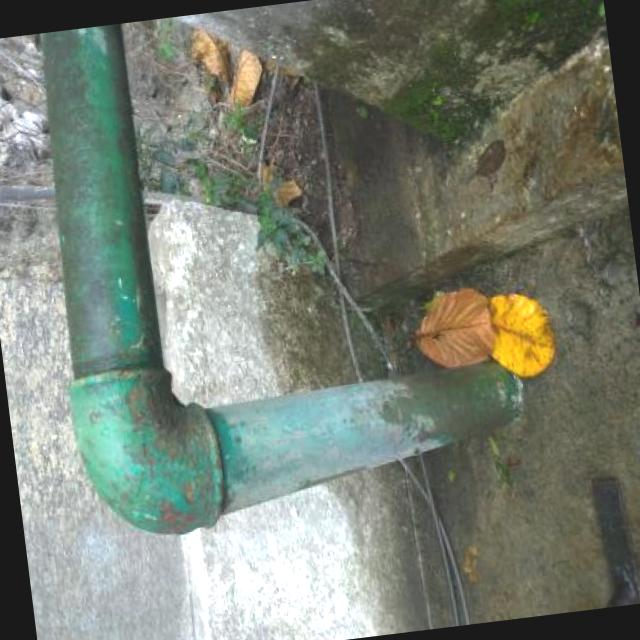gas: (36, 23, 517, 533)
